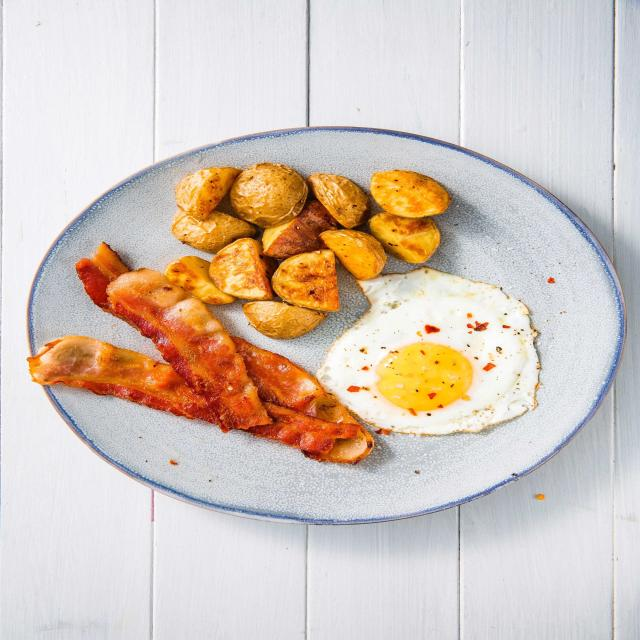Bacon: (105, 269, 272, 431), (28, 336, 219, 424), (246, 402, 366, 456)
Egg: (317, 268, 540, 435)
